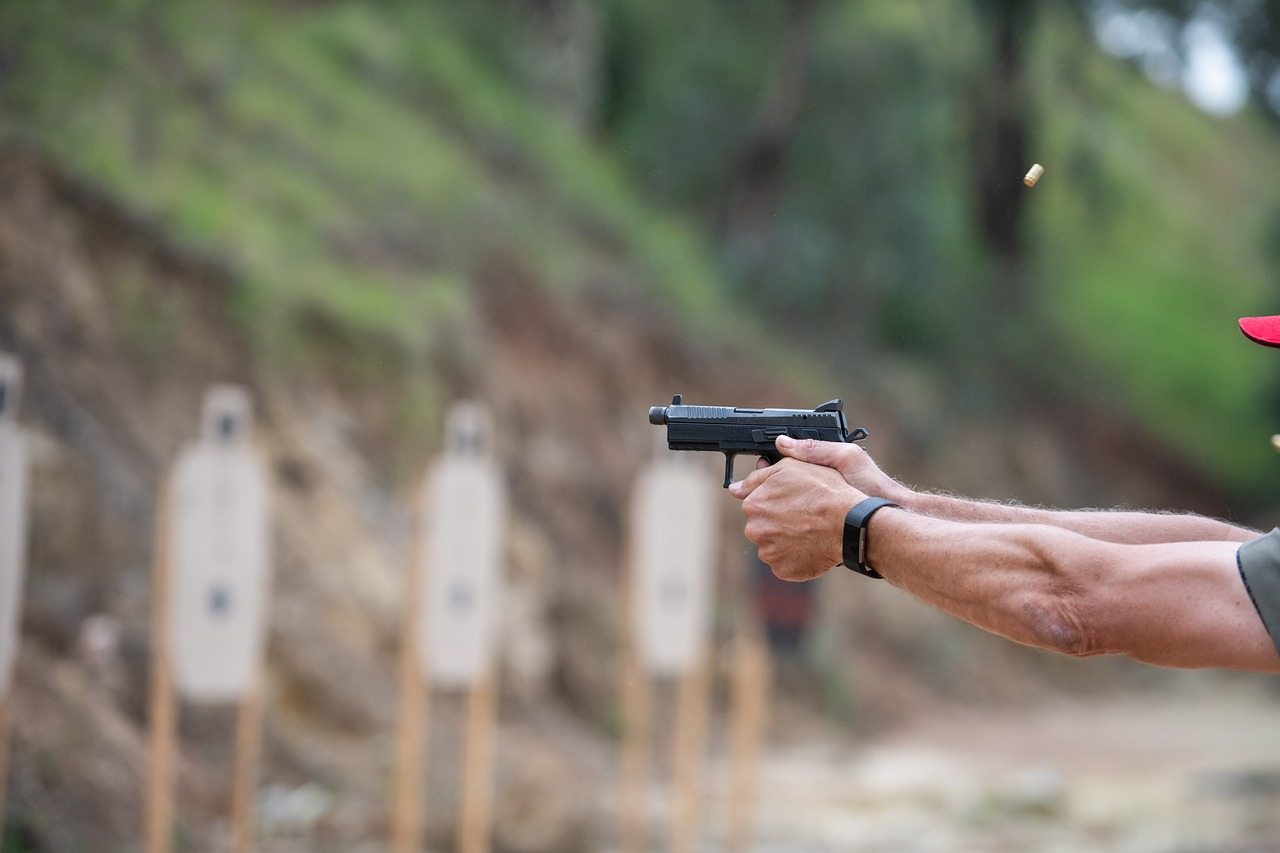gun: (643, 391, 879, 492)
